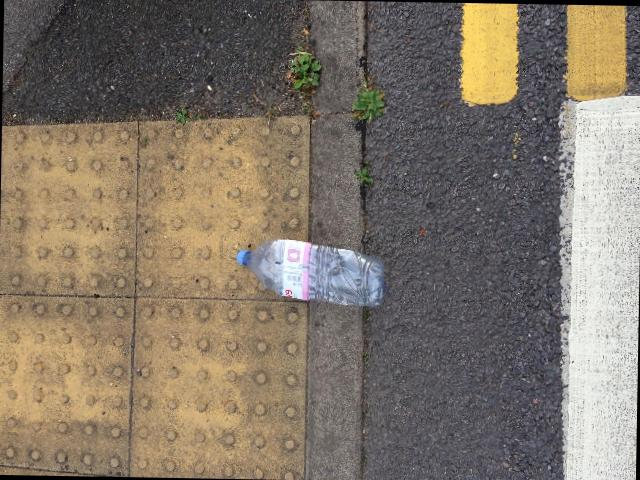plastic: (237, 239, 388, 306)
